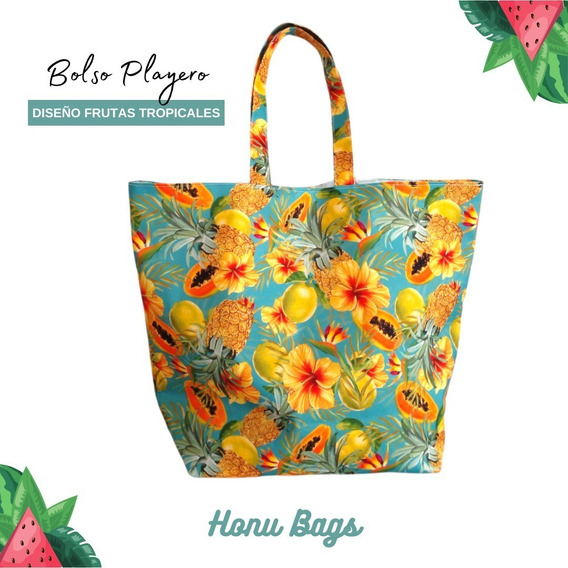cartera: (129, 22, 485, 479)
